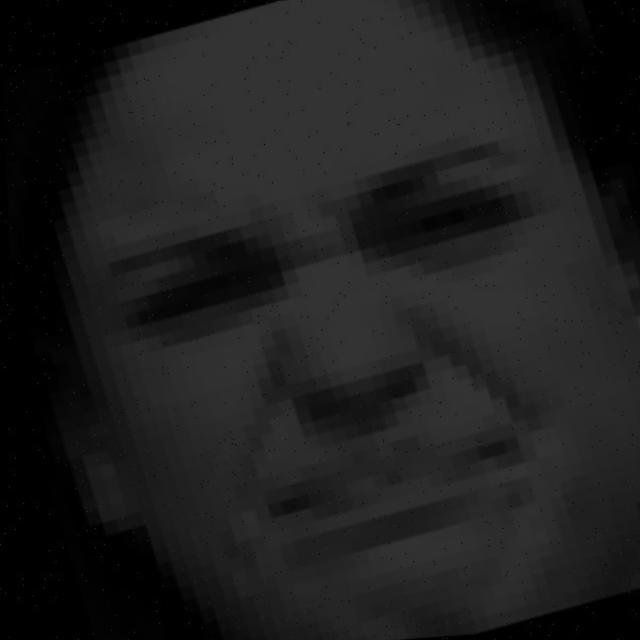Disgust: (47, 87, 619, 632)
